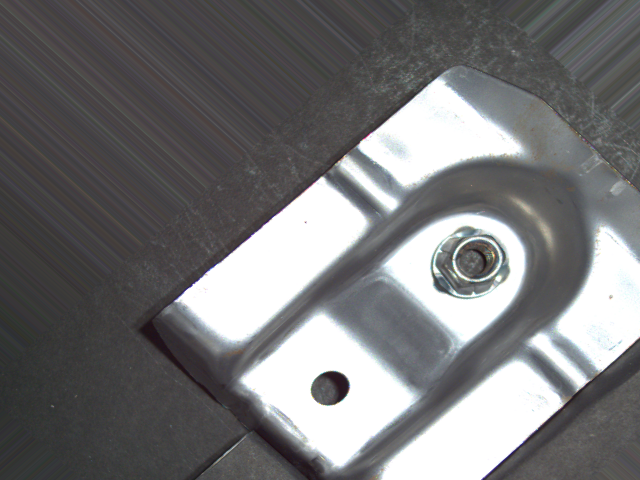good: (427, 222, 515, 302)
